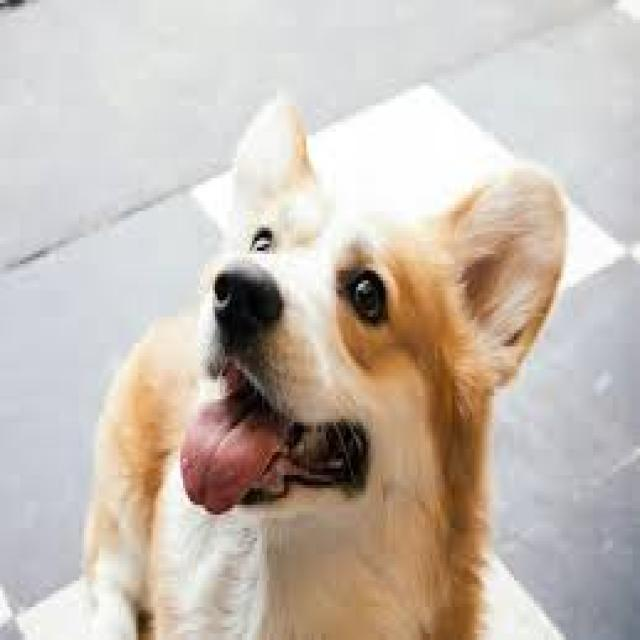CORGI: (78, 64, 585, 640)
